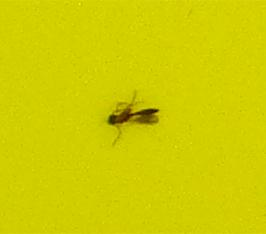Hymenoptera: (100, 100, 166, 134)
